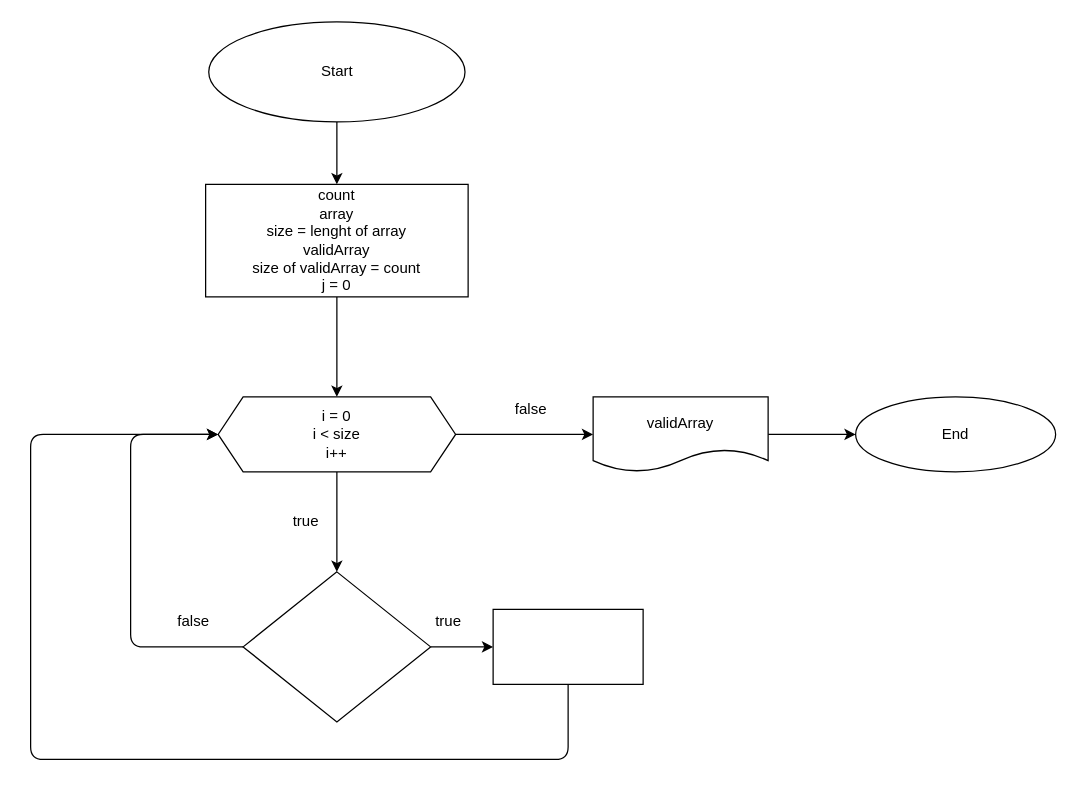
This 1078x791 diagram has some shape labels left out. Each missing label, with the box of its shape:
array[j] = array[i] j++: (492, 608, 643, 684)
if (Lenght of array[i]) <=3): (242, 571, 431, 722)
